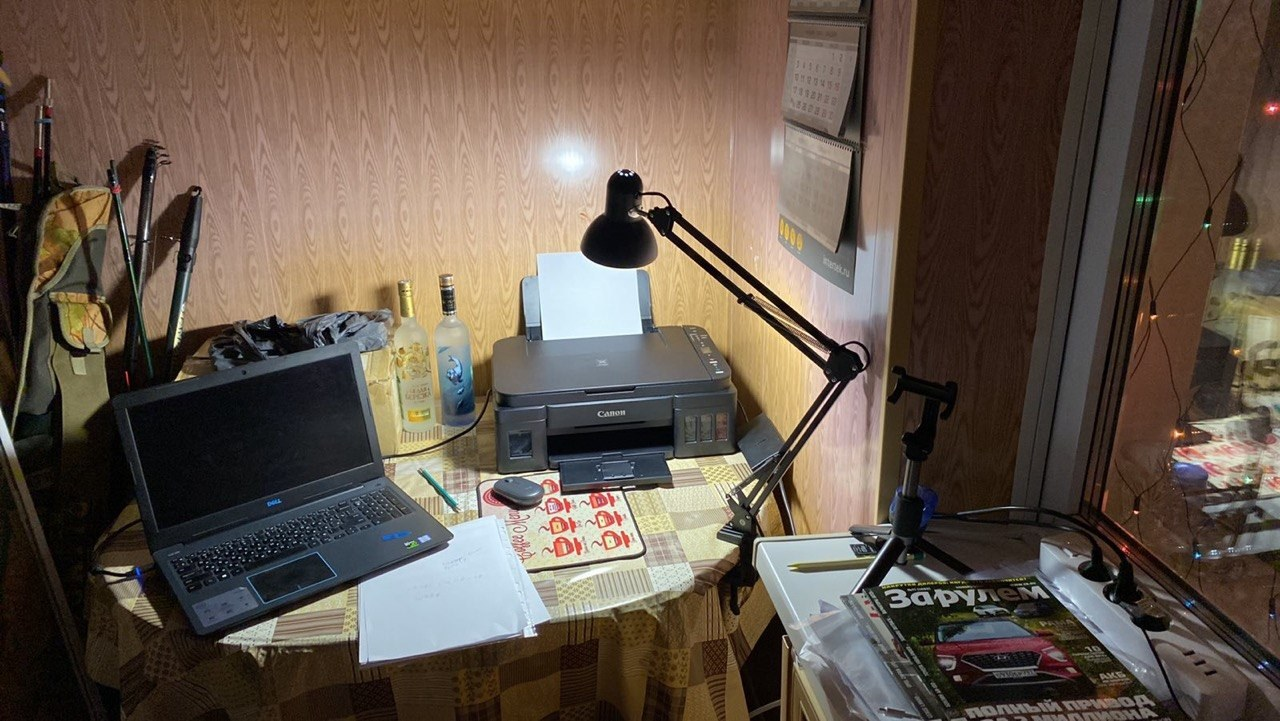laptop: (111, 338, 454, 637)
